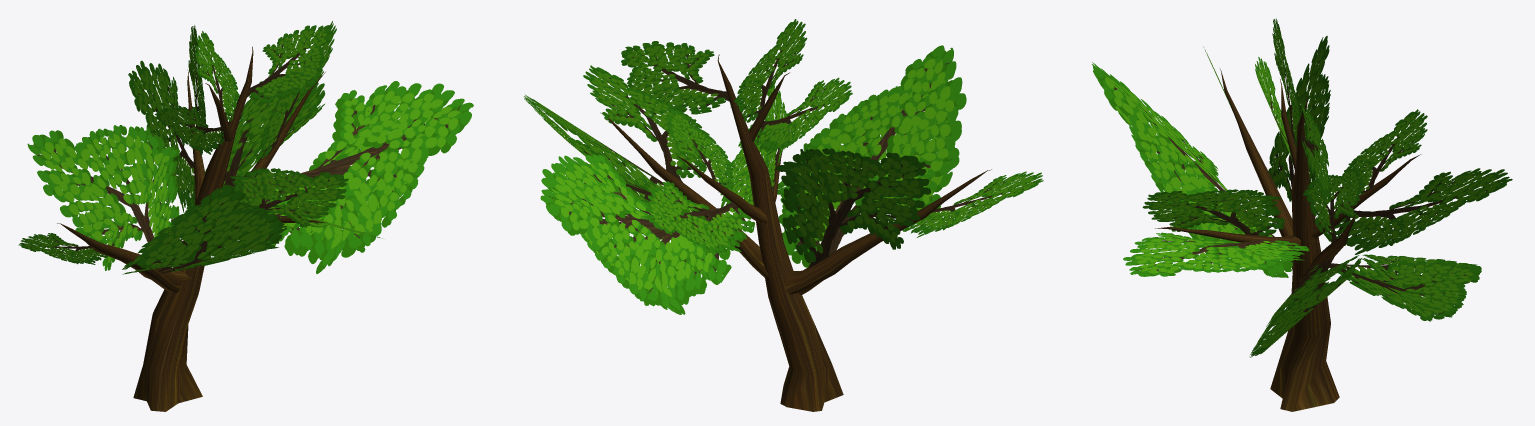
Rendered from burke_LGtree.fbx.
The picture shows the model from 3 angles, left to right: view 1: azimuth 30°, elevation 25°; view 2: azimuth 150°, elevation 25°; view 3: azimuth 270°, elevation 25°; orthographic projection. The views are drawn at different scales.
Visible parts, largest first — view 1: branch_mb6, branch_mb3, polySurface2, branch_mb4, branch_mb9, branch_mb15, branch_mb11, branch_mb7, branch_mb14, branch_mb13, branch_mb8, branch_mb5 (+1 smaller); view 2: polySurface2, branch_mb7, branch_mb4, branch_mb3, branch_mb15, branch_mb8, branch_mb11, branch_mb14, branch_mb13, branch_mb6, branch_mb5, branch_mb12 (+2 smaller); view 3: polySurface2, branch_mb4, branch_mb7, branch_mb11, branch_mb10, branch_mb9, branch_mb3, branch_mb6, branch_mb12, branch_mb8, branch_mb15, branch_mb14 (+1 smaller).
Part boxes in pixels (x1=…): branch_mb6: x1=254, y1=81, x2=473, y2=273; branch_mb3: x1=27, y1=125, x2=179, y2=270; polySurface2: x1=57, y1=46, x2=327, y2=411; branch_mb4: x1=122, y1=185, x2=287, y2=274; branch_mb9: x1=230, y1=168, x2=348, y2=227; branch_mb15: x1=247, y1=25, x2=331, y2=103; branch_mb11: x1=128, y1=60, x2=195, y2=213; branch_mb7: x1=186, y1=74, x2=325, y2=209; branch_mb14: x1=195, y1=31, x2=239, y2=121; branch_mb13: x1=155, y1=105, x2=224, y2=154; branch_mb8: x1=257, y1=21, x2=336, y2=161; branch_mb5: x1=18, y1=233, x2=108, y2=264; polySurface2: x1=600, y1=54, x2=991, y2=411; branch_mb7: x1=540, y1=154, x2=731, y2=314; branch_mb4: x1=777, y1=45, x2=966, y2=267; branch_mb3: x1=775, y1=148, x2=930, y2=268; branch_mb15: x1=621, y1=41, x2=729, y2=115; branch_mb8: x1=583, y1=65, x2=715, y2=182; branch_mb11: x1=644, y1=181, x2=754, y2=254; branch_mb14: x1=730, y1=19, x2=807, y2=122; branch_mb13: x1=754, y1=77, x2=852, y2=155; branch_mb6: x1=524, y1=95, x2=705, y2=223; branch_mb5: x1=902, y1=171, x2=1043, y2=237; branch_mb12: x1=666, y1=108, x2=735, y2=189; polySurface2: x1=1155, y1=69, x2=1421, y2=411; branch_mb4: x1=1092, y1=62, x2=1293, y2=277; branch_mb7: x1=1329, y1=254, x2=1481, y2=321; branch_mb11: x1=1326, y1=168, x2=1512, y2=254; branch_mb10: x1=1123, y1=232, x2=1309, y2=276; branch_mb9: x1=1142, y1=189, x2=1284, y2=236; branch_mb3: x1=1268, y1=36, x2=1330, y2=216; branch_mb6: x1=1250, y1=255, x2=1361, y2=357; branch_mb12: x1=1337, y1=109, x2=1427, y2=195; branch_mb8: x1=1303, y1=168, x2=1363, y2=244; branch_mb15: x1=1300, y1=101, x2=1330, y2=200; branch_mb14: x1=1272, y1=18, x2=1300, y2=147.
Size of the model in its own units: 19.75 by 13.99 by 14.13.
